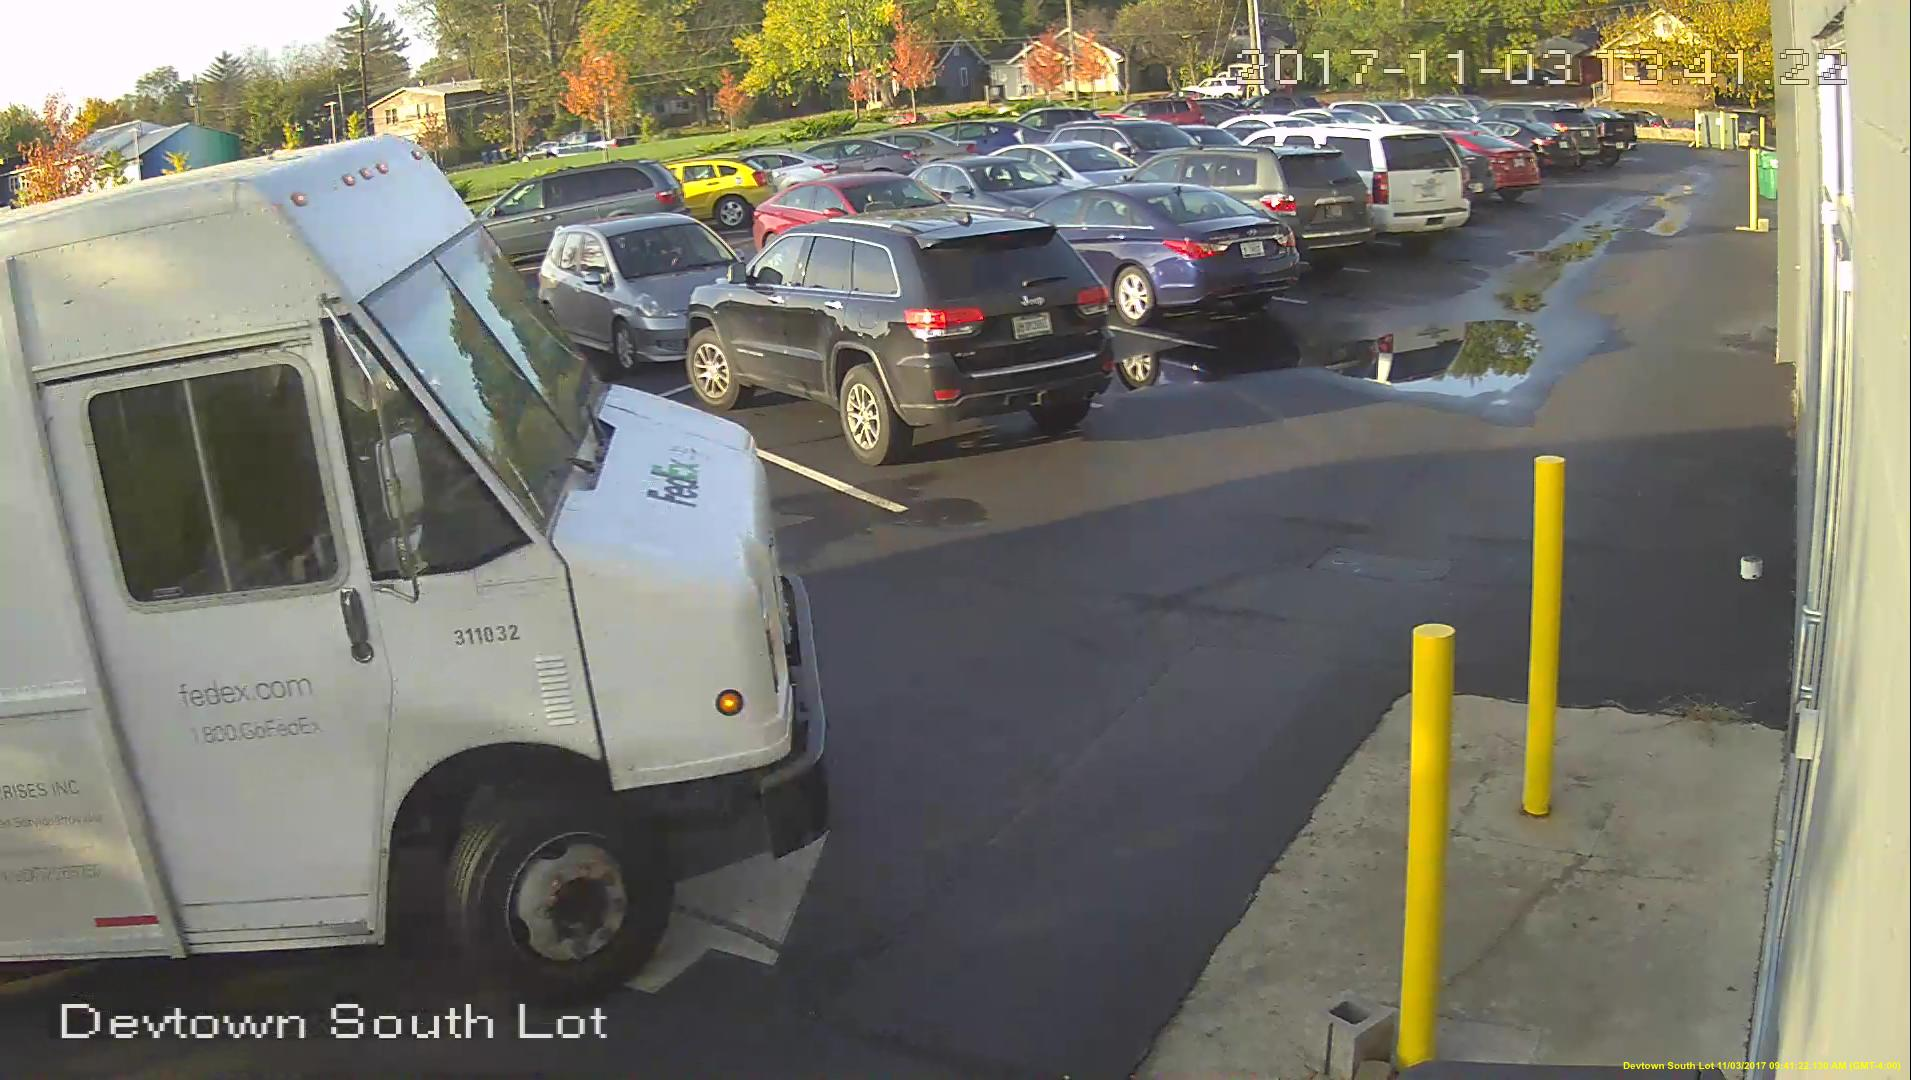fedex_truck: (3, 138, 826, 1000)
